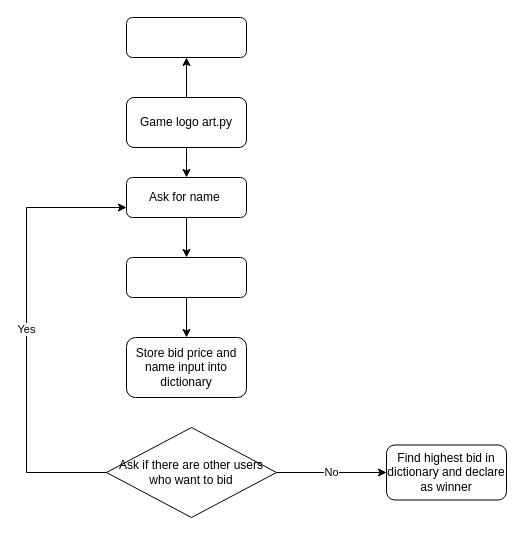
Some shapes in this 524 by 535 pixel diagram are drawn without their labels. Here are the shapes that lost their labels. From the top down, the centre of each, then its label:
At [186,37]: "START".
At [186,277]: "Ask for big price".
